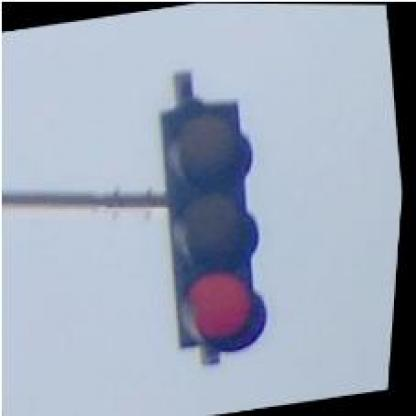red: (142, 96, 287, 362)
